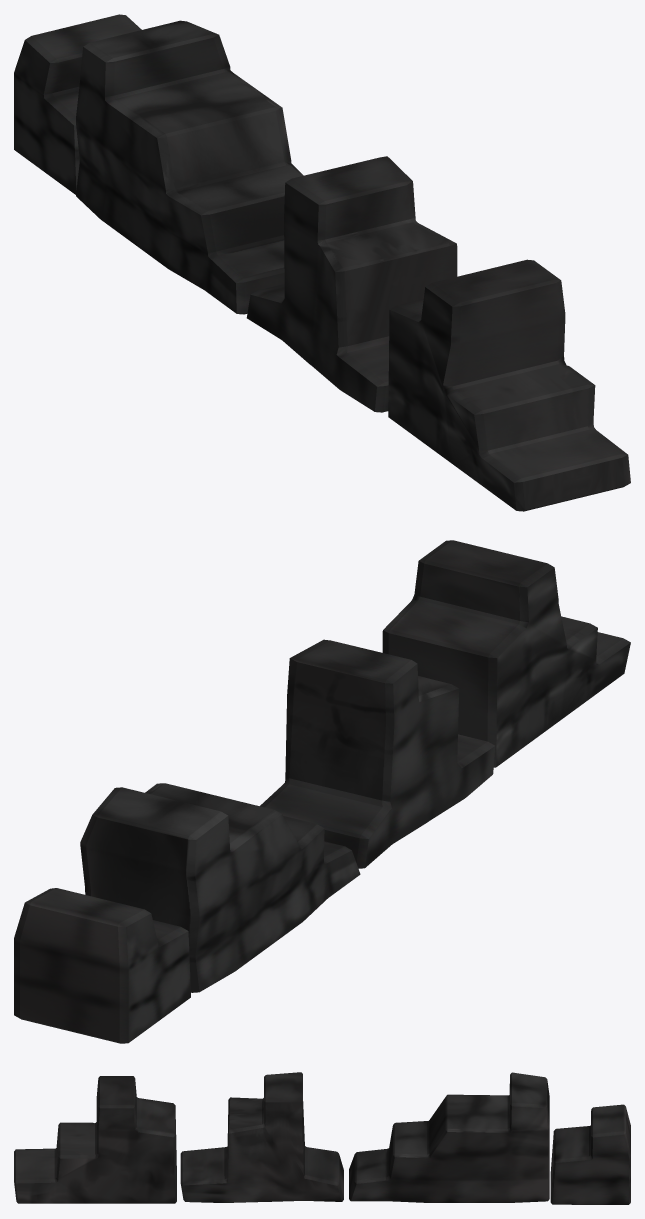
The model's file is StoneBuilds-BrokenWall.fbx.
3 renders of one model, top to bottom at view 1: azimuth 30°, elevation 25°; view 2: azimuth 150°, elevation 25°; view 3: azimuth 270°, elevation 25°, orthographic. The views are drawn at different scales.
Visible parts, largest first — view 1: BrokenWalls; view 2: BrokenWalls; view 3: BrokenWalls.
Boxes of the visible parts, box(x1,y1,x2,y2) form: BrokenWalls: box(14, 14, 630, 511); BrokenWalls: box(14, 540, 630, 1043); BrokenWalls: box(14, 1072, 630, 1204).
Size of the model in its own units: 106 by 130 by 711.
Materials: 1 (1 with a texture image).
